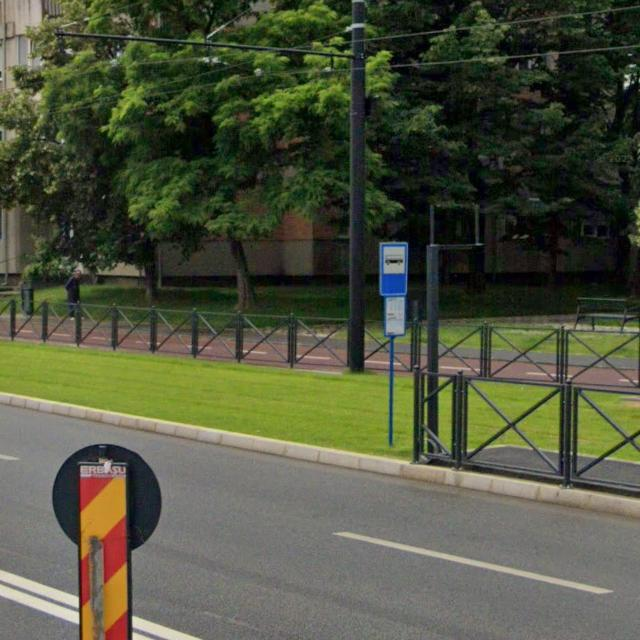info_bus_station: (379, 242, 407, 296)
